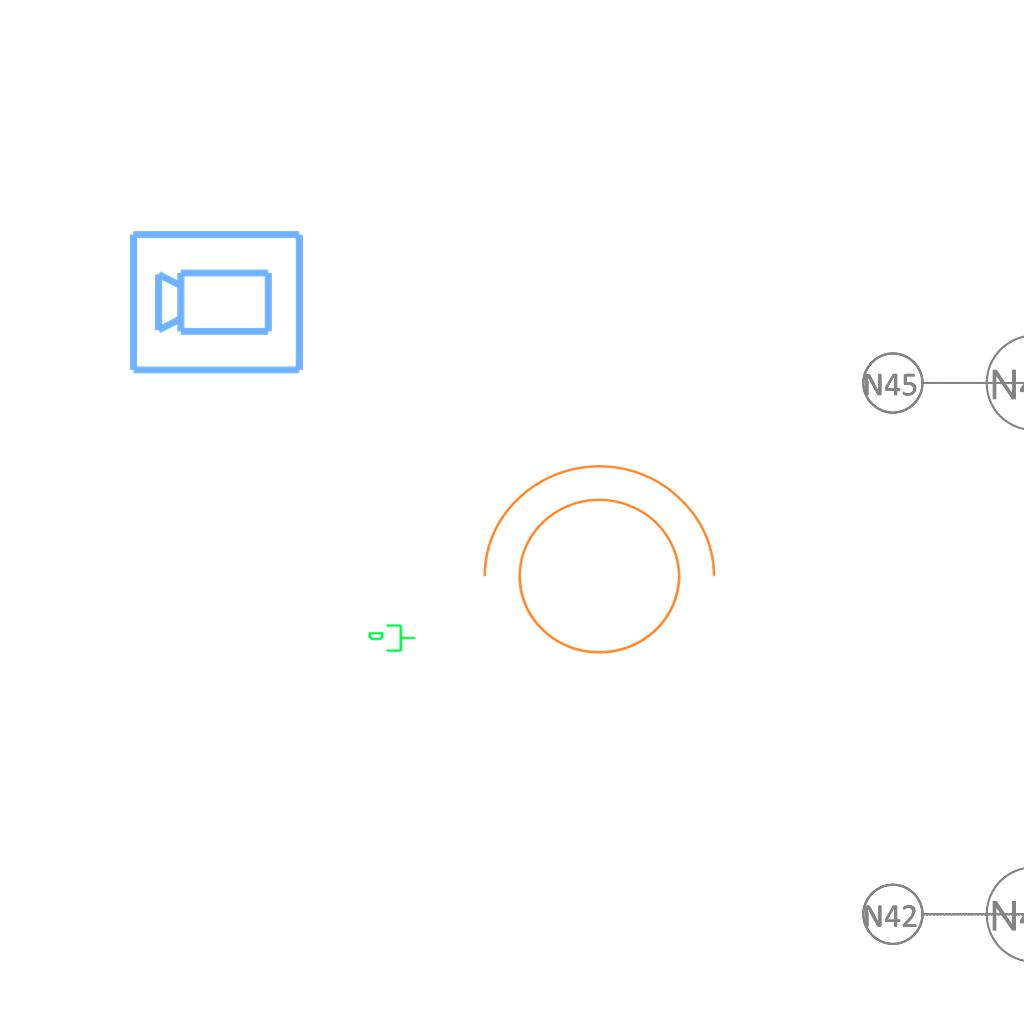Datenanschluss_einfach: (366, 621, 418, 657)
KFO_Kamera_mit_Festobjektiv: (126, 224, 308, 378)
Scheinwerfer_fuer_Alarmbeleuchtung: (461, 454, 725, 679)
